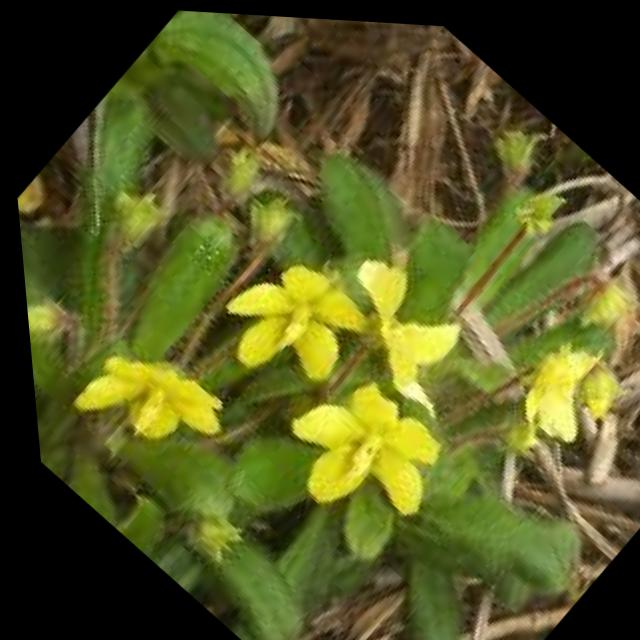Flower: (246, 348, 469, 566), (292, 220, 506, 426), (45, 290, 255, 495), (197, 219, 387, 407), (474, 321, 629, 476)
